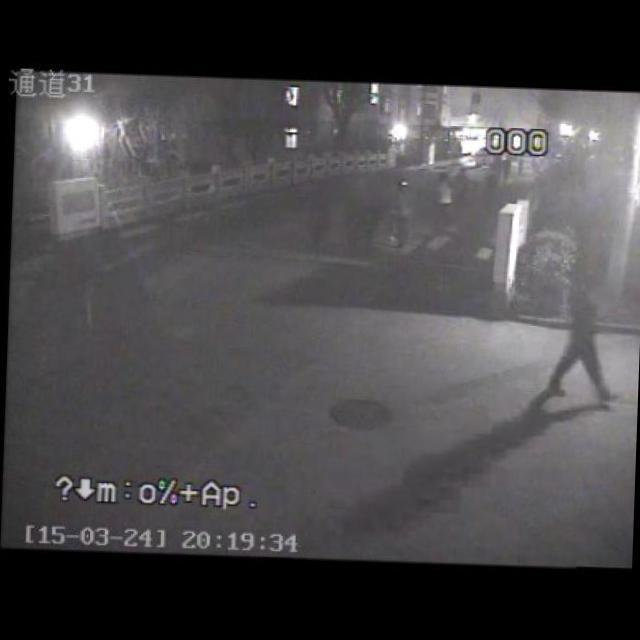person: (540, 266, 629, 408), (300, 170, 338, 260), (356, 182, 386, 256), (426, 172, 458, 232), (390, 178, 415, 244)
